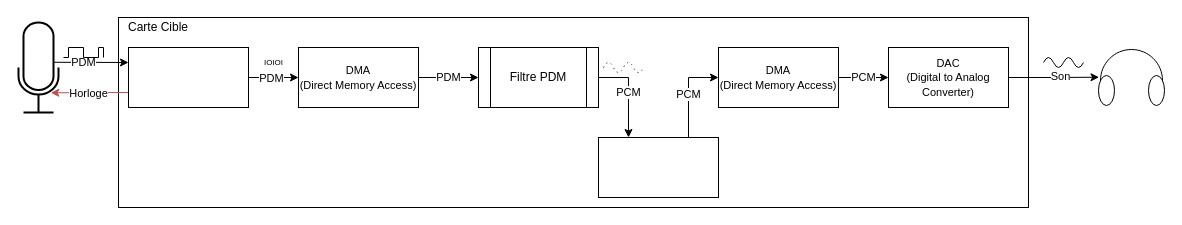
This 1182x225 diagram has some shape labels left out. Each missing label, with the centre of its shape:
SAI (Serial Audio Interface): (188,77)
Stockage en memoire: (658,167)
